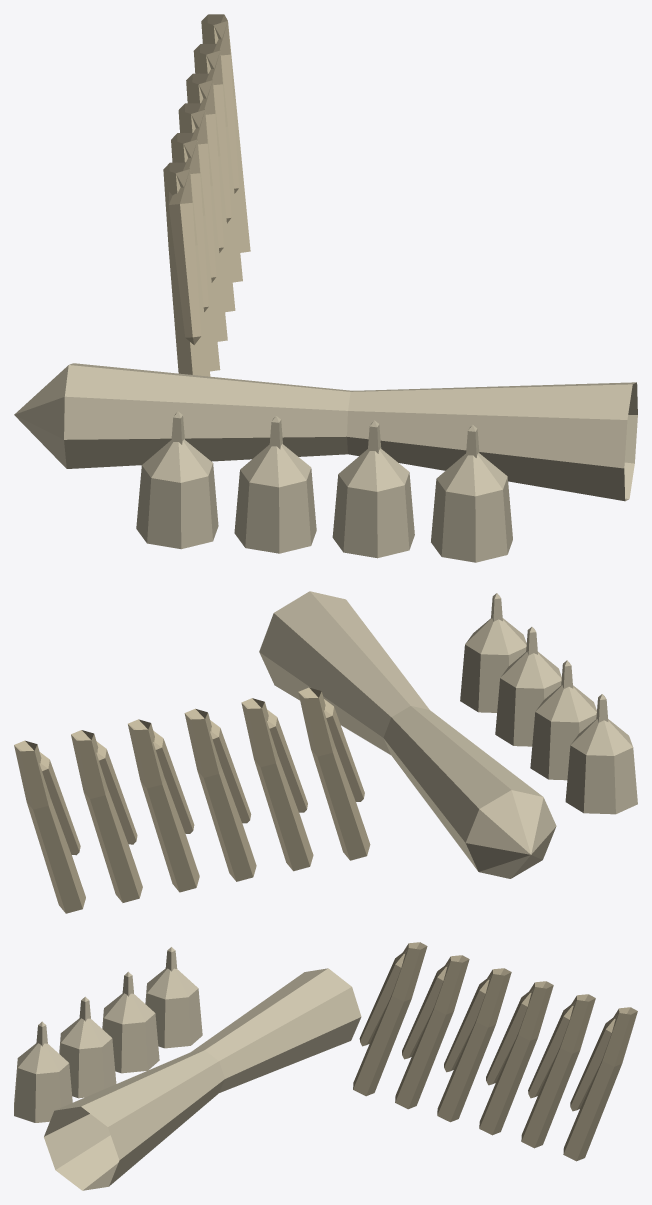
File: bones_0.glb
3 views of the same model, one above another, from view 1: azimuth 30°, elevation 25°; view 2: azimuth 150°, elevation 25°; view 3: azimuth 270°, elevation 25° (orthographic). The views are drawn at different scales.
Visible parts, largest first — view 1: bones_0; view 2: bones_0; view 3: bones_0.
Part boxes in pixels (x1,y1,x2,y2): bones_0: (14, 14, 637, 562); bones_0: (14, 591, 637, 913); bones_0: (14, 942, 637, 1190).
Size of the model in its own units: 0.3817 by 0.1736 by 0.5984.
